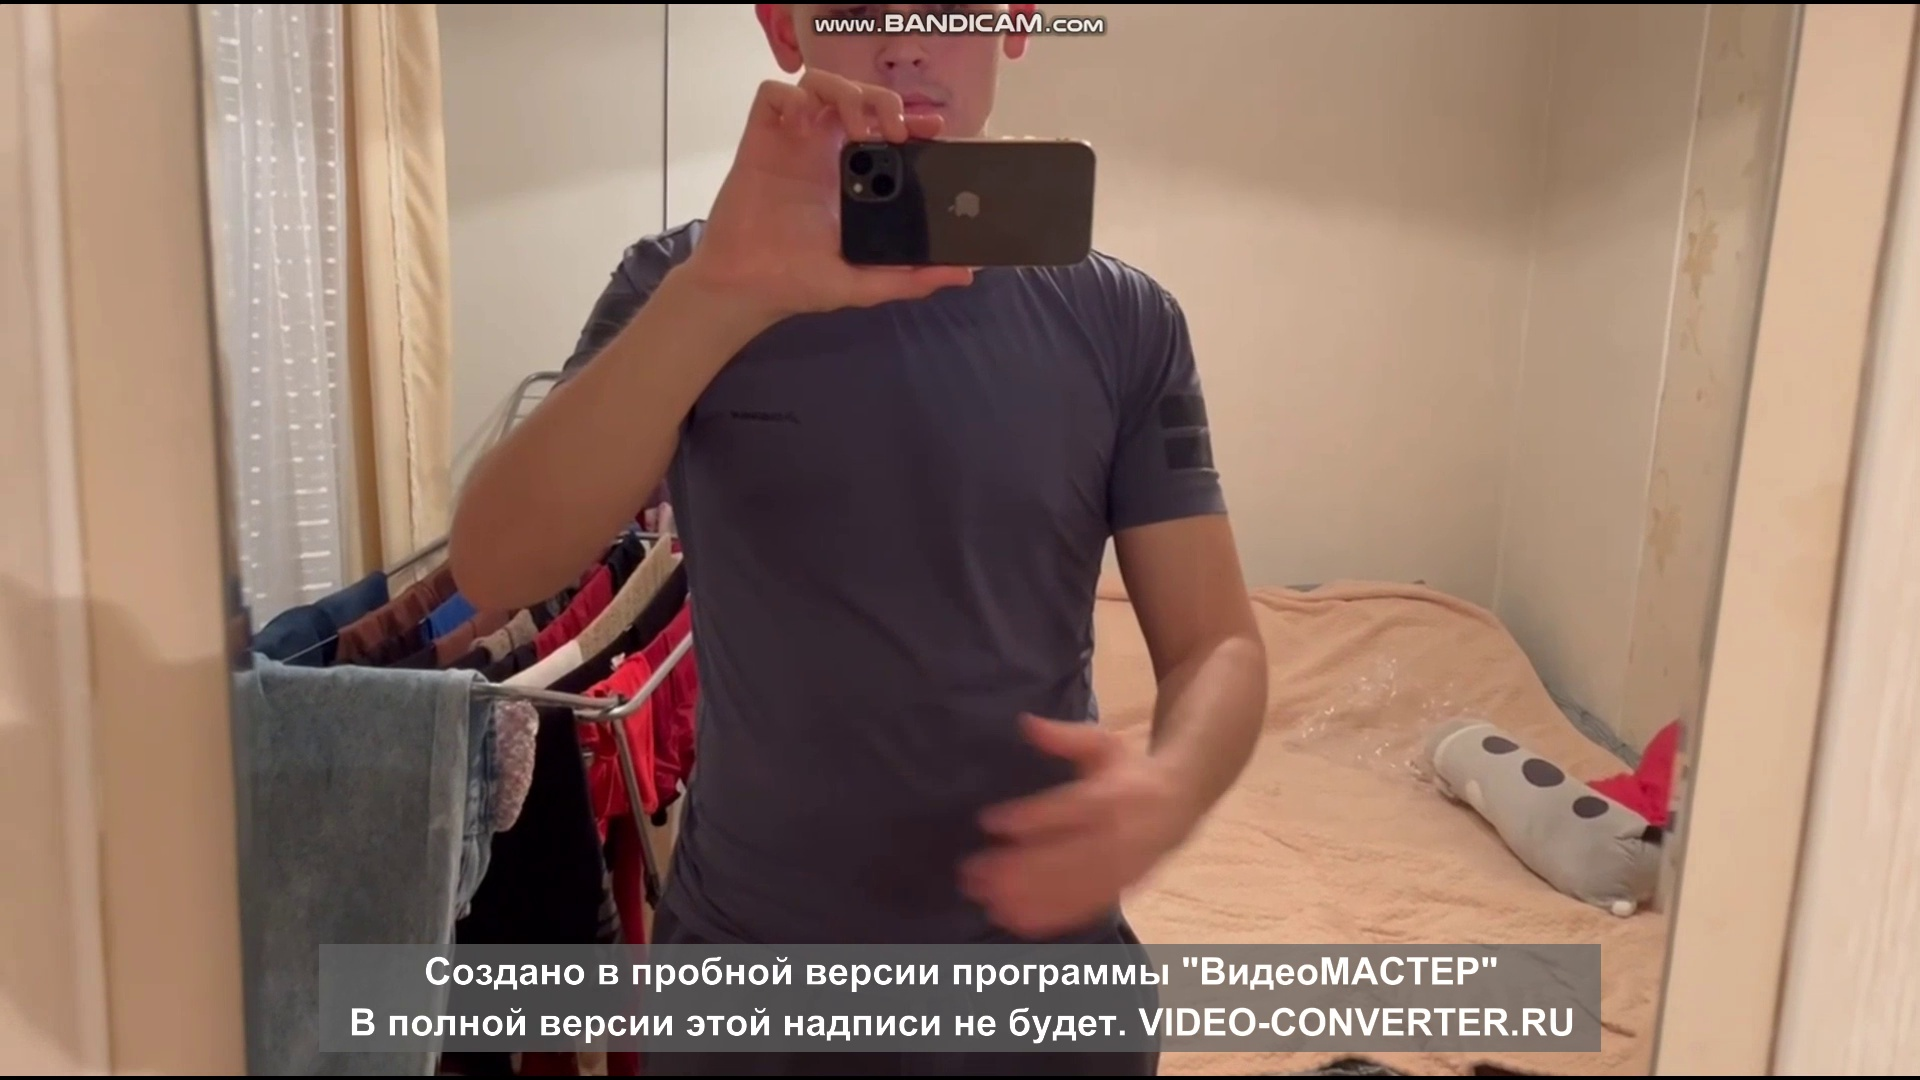Кисть: (961, 708, 1174, 935)
